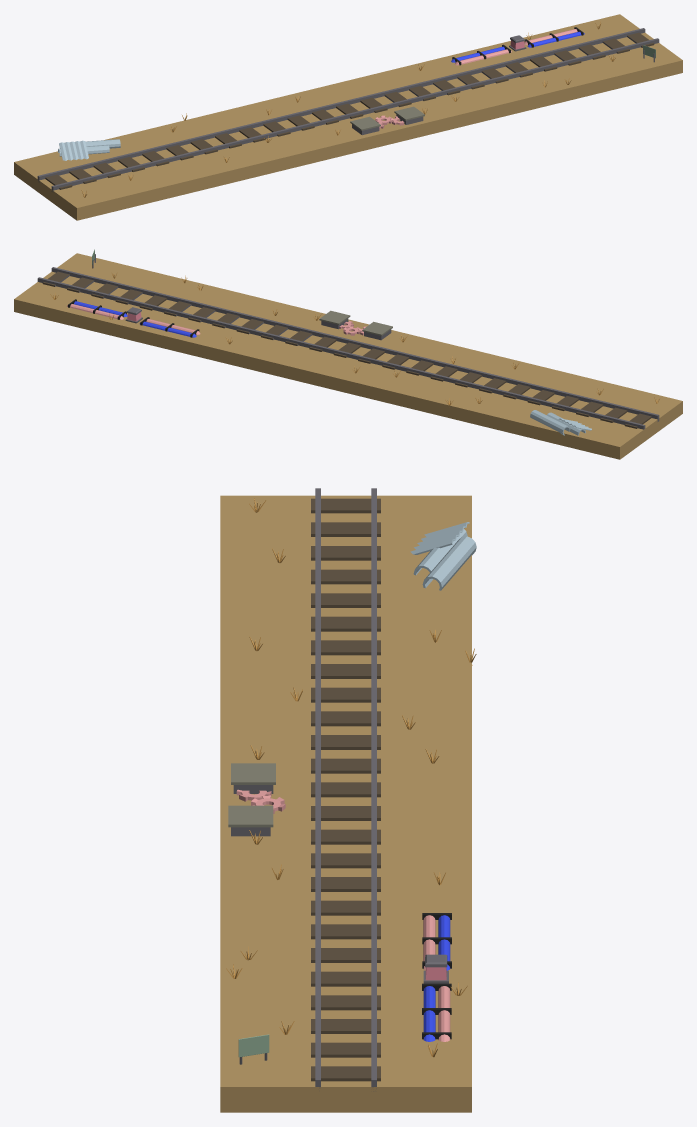
Rendered from Meio-Fabrica-1.glb.
3 views of the same model, one above another, from view 1: azimuth 30°, elevation 25°; view 2: azimuth 150°, elevation 25°; view 3: azimuth 270°, elevation 25° (orthographic). The views are drawn at different scales.
Visible parts, largest first — view 1: CHAO.011, TRILHO.008, METAL.015, CANO.001, CANO.002, BLOCO.003, BLOCO.002; view 2: CHAO.011, TRILHO.008, CANO.002, CANO.001, TUBO.002, BLOCO.003, BLOCO.002; view 3: CHAO.011, TRILHO.008, CANO.001, BLOCO.002, BLOCO.003, CANO.002, TUBO.002.
Part boxes in pixels (left/top/right/bottom): CHAO.011: left=14, top=14, right=682, bottom=220; TRILHO.008: left=37, top=28, right=659, bottom=192; METAL.015: left=59, top=140, right=88, bottom=160; CANO.001: left=524, top=27, right=584, bottom=47; CANO.002: left=451, top=44, right=511, bottom=65; BLOCO.003: left=350, top=116, right=380, bottom=135; BLOCO.002: left=394, top=106, right=424, bottom=124; CHAO.011: left=14, top=253, right=682, bottom=459; TRILHO.008: left=37, top=267, right=659, bottom=429; CANO.002: left=139, top=317, right=200, bottom=337; CANO.001: left=67, top=299, right=127, bottom=319; TUBO.002: left=530, top=410, right=570, bottom=435; BLOCO.003: left=362, top=321, right=392, bottom=340; BLOCO.002: left=319, top=310, right=350, bottom=329; CHAO.011: left=220, top=495, right=471, bottom=1112; TRILHO.008: left=311, top=488, right=380, bottom=1091; CANO.001: left=422, top=983, right=451, bottom=1041; BLOCO.002: left=228, top=805, right=273, bottom=836; BLOCO.003: left=231, top=763, right=275, bottom=793; CANO.002: left=422, top=913, right=451, bottom=970; TUBO.002: left=422, top=536, right=476, bottom=590.
Bounding box in the file's own units: 50 × 2.11 × 9.17.
